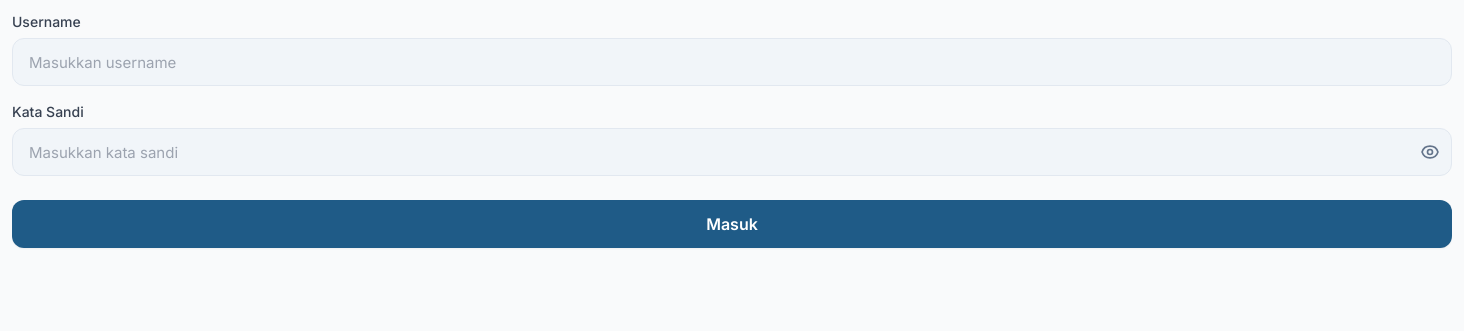
Test: LoginForm rate-limit feedback › keeps authentication failures generic for non-429 responses
Type "tidakada" into the field labelled "Username" at (732, 62), box [12, 38, 1452, 86]
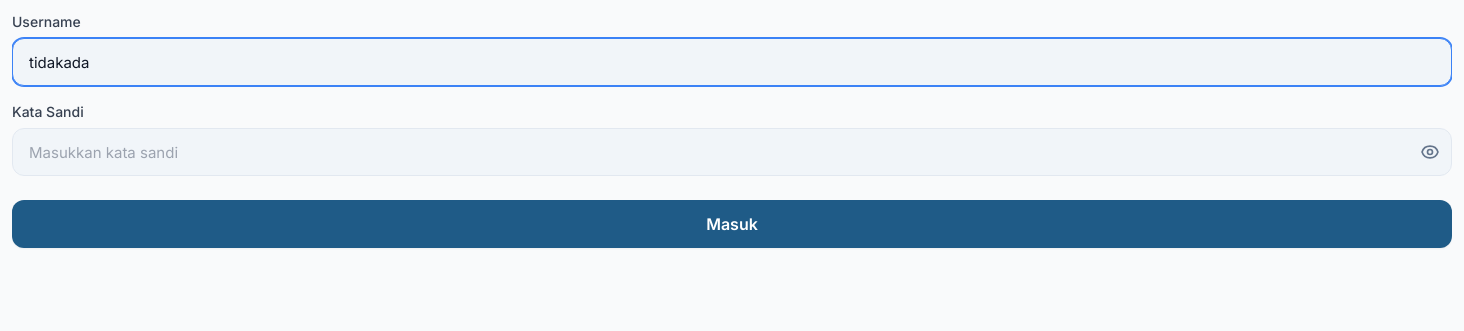
Type "salah123" into the password field labelled "Kata Sandi" at (732, 152), box [12, 128, 1452, 176]
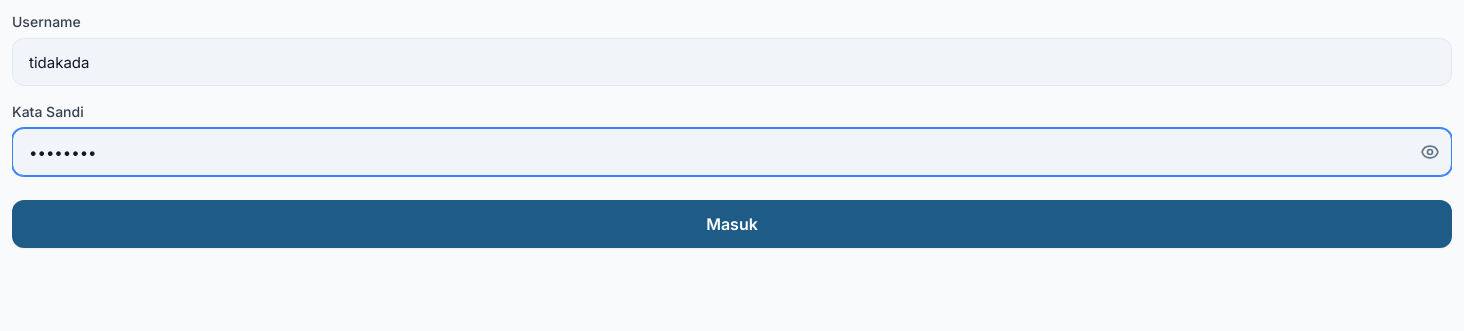
Click the button "Masuk" at (732, 224), box [12, 200, 1452, 248]
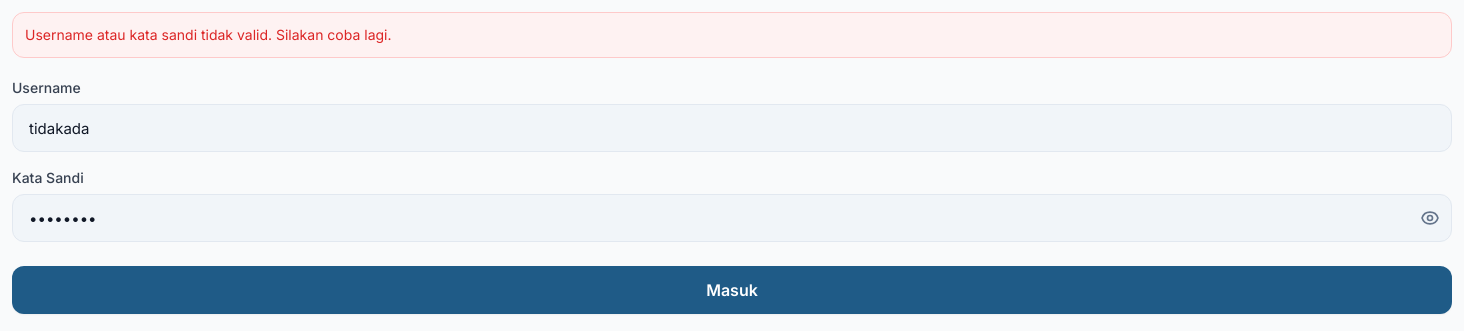
Check: the message reads "Username atau kata sandi tidak valid. Silakan coba lagi.", box [25, 26, 392, 43]
